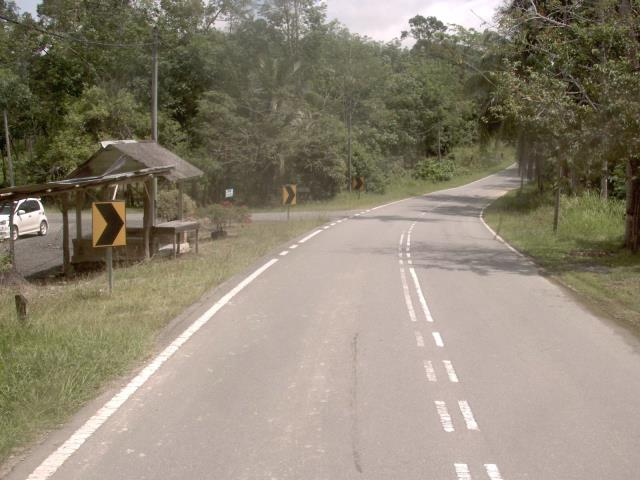traffic_sign: (82, 194, 134, 256)
